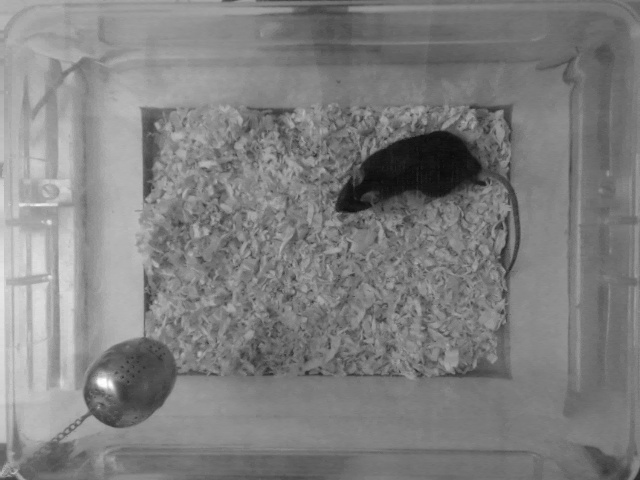mice: (331, 130, 520, 275)
